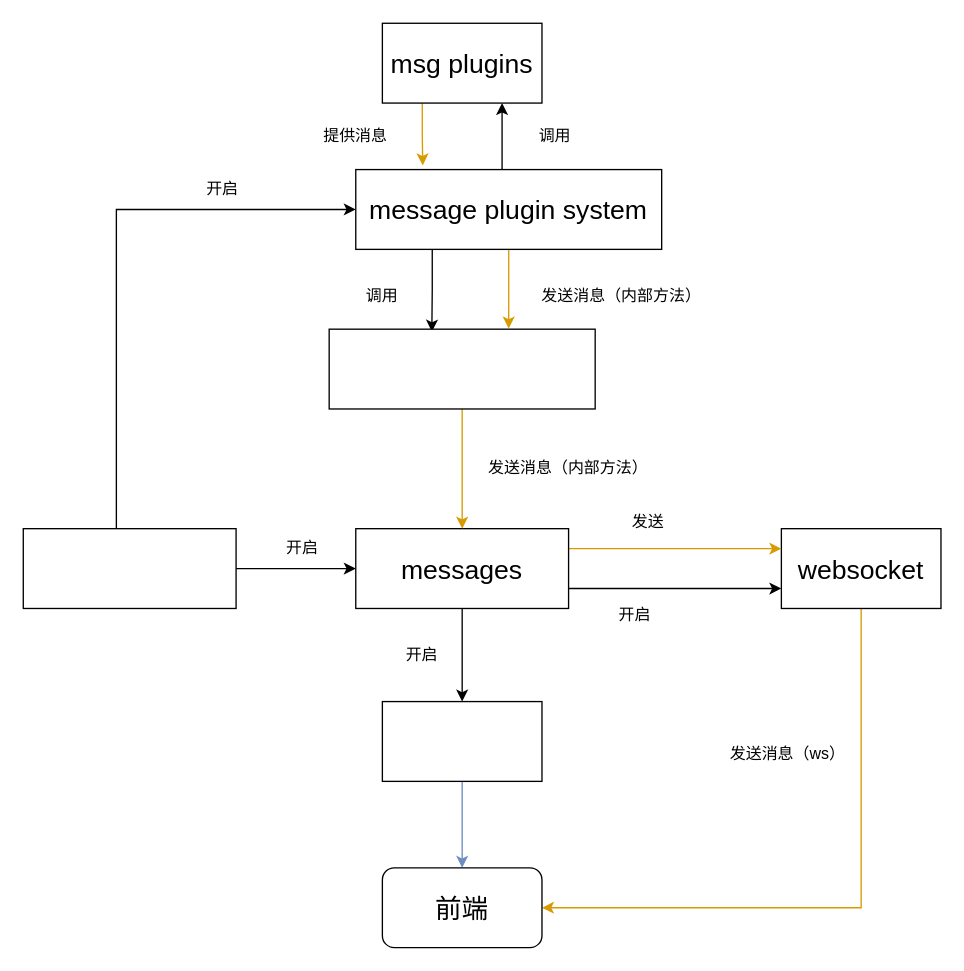
Some shapes in this 964 by 971 pixel diagram are drawn without their labels. The shapes that lost their labels are listed below. From the top down, each one's centre as x and y in pixels, then its label:
the point at 461,368: msg process plugin
the point at 129,567: main process
the point at 461,740: http server
